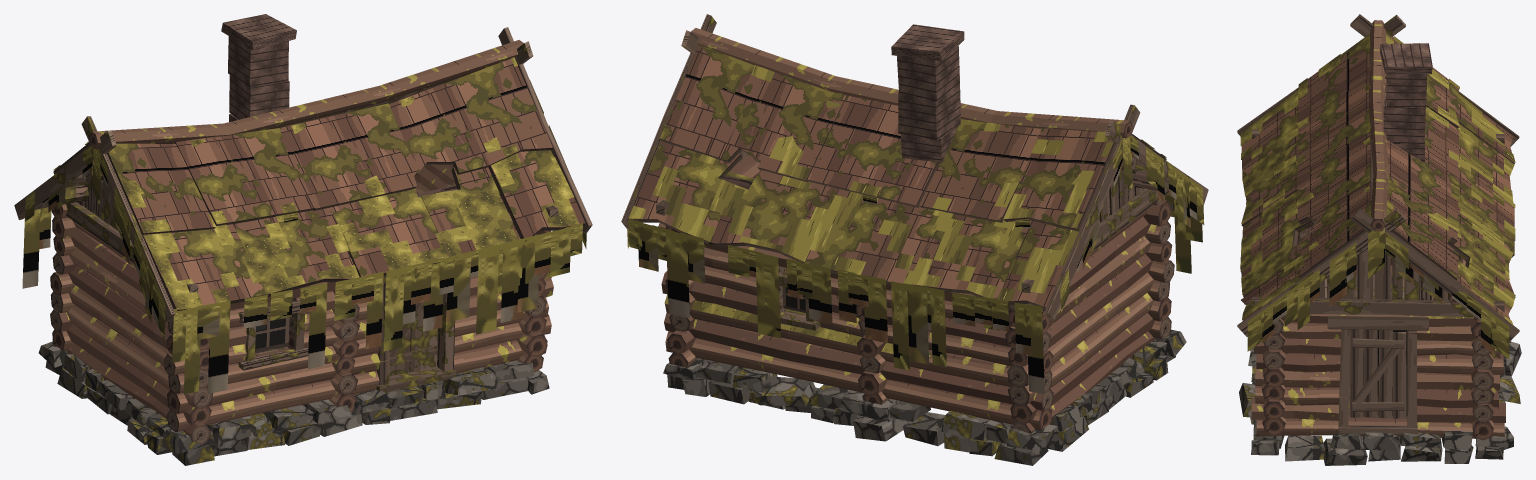
The model's file is SM_SW17_LowSaggingHut.fbx.
The picture shows the model from 3 angles, left to right: view 1: azimuth 30°, elevation 25°; view 2: azimuth 150°, elevation 25°; view 3: azimuth 270°, elevation 25°; orthographic projection. The views are drawn at different scales.
Parts seen in each view (by area): view 1: SW17c_Roof, SW17c_LogWall, SW17c_Plants, SW17c_Stone, SW17c_Planks, SW17c_Moss, SW17c_Props, SW17c_Bark; view 2: SW17c_Roof, SW17c_LogWall, SW17c_Plants, SW17c_Moss, SW17c_Stone, SW17c_Props, SW17c_Planks, SW17c_Bark; view 3: SW17c_Roof, SW17c_Planks, SW17c_LogWall, SW17c_Moss, SW17c_Props, SW17c_Stone, SW17c_Plants.
Part boxes in pixels (x1,y1,x2,y2): SW17c_Roof: (108, 59, 585, 310); SW17c_LogWall: (54, 40, 553, 440); SW17c_Plants: (22, 80, 586, 393); SW17c_Stone: (38, 341, 549, 465); SW17c_Planks: (14, 27, 592, 393); SW17c_Moss: (53, 57, 578, 309); SW17c_Props: (50, 14, 592, 445); SW17c_Bark: (64, 166, 457, 204); SW17c_Roof: (631, 44, 1113, 307); SW17c_LogWall: (658, 28, 1170, 433); SW17c_Plants: (627, 135, 1204, 394); SW17c_Moss: (628, 65, 1166, 360); SW17c_Stone: (663, 329, 1186, 465); SW17c_Props: (621, 24, 1174, 433); SW17c_Planks: (621, 14, 1208, 330); SW17c_Bark: (722, 155, 1157, 190); SW17c_Roof: (1241, 32, 1514, 320); SW17c_Planks: (1237, 14, 1519, 435); SW17c_LogWall: (1251, 20, 1505, 438); SW17c_Moss: (1240, 34, 1515, 392); SW17c_Props: (1262, 14, 1494, 440); SW17c_Stone: (1239, 341, 1521, 465); SW17c_Plants: (1247, 191, 1509, 359).
Bounding box in the file's own units: 6.17 × 4.91 × 3.95.
